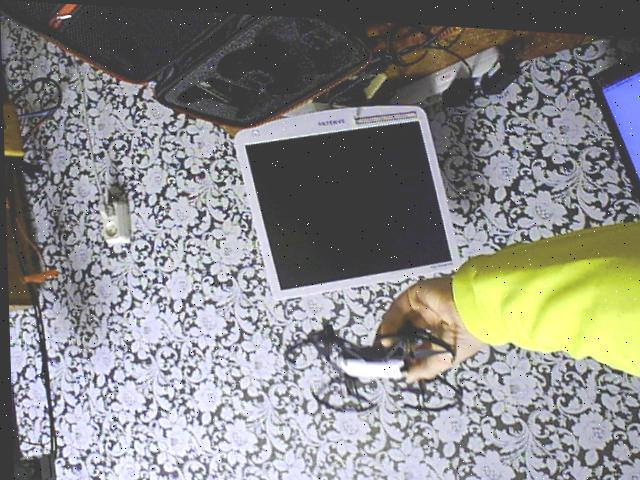drone: (279, 305, 477, 429)
